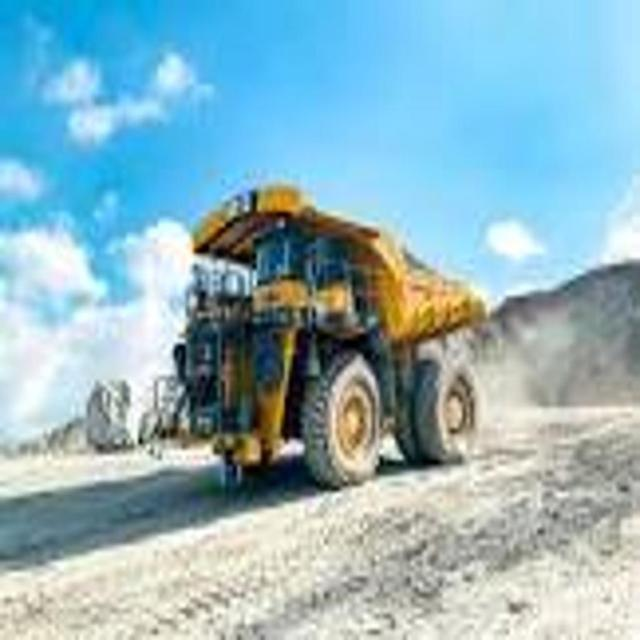dump_truck: (173, 177, 493, 500)
